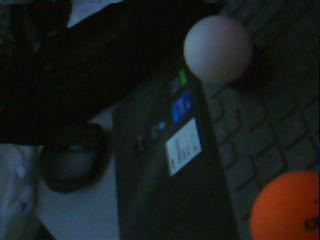oball: (248, 170, 320, 240)
